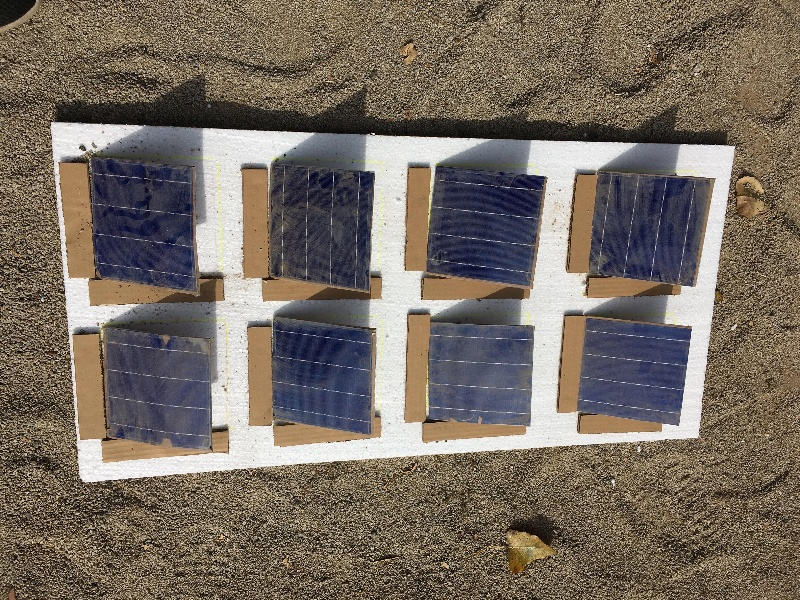dirty: (96, 326, 217, 453), (267, 161, 379, 295), (428, 321, 534, 427)
semi: (85, 156, 201, 299), (582, 168, 715, 279), (422, 163, 540, 286), (267, 315, 380, 435), (584, 314, 688, 427)
